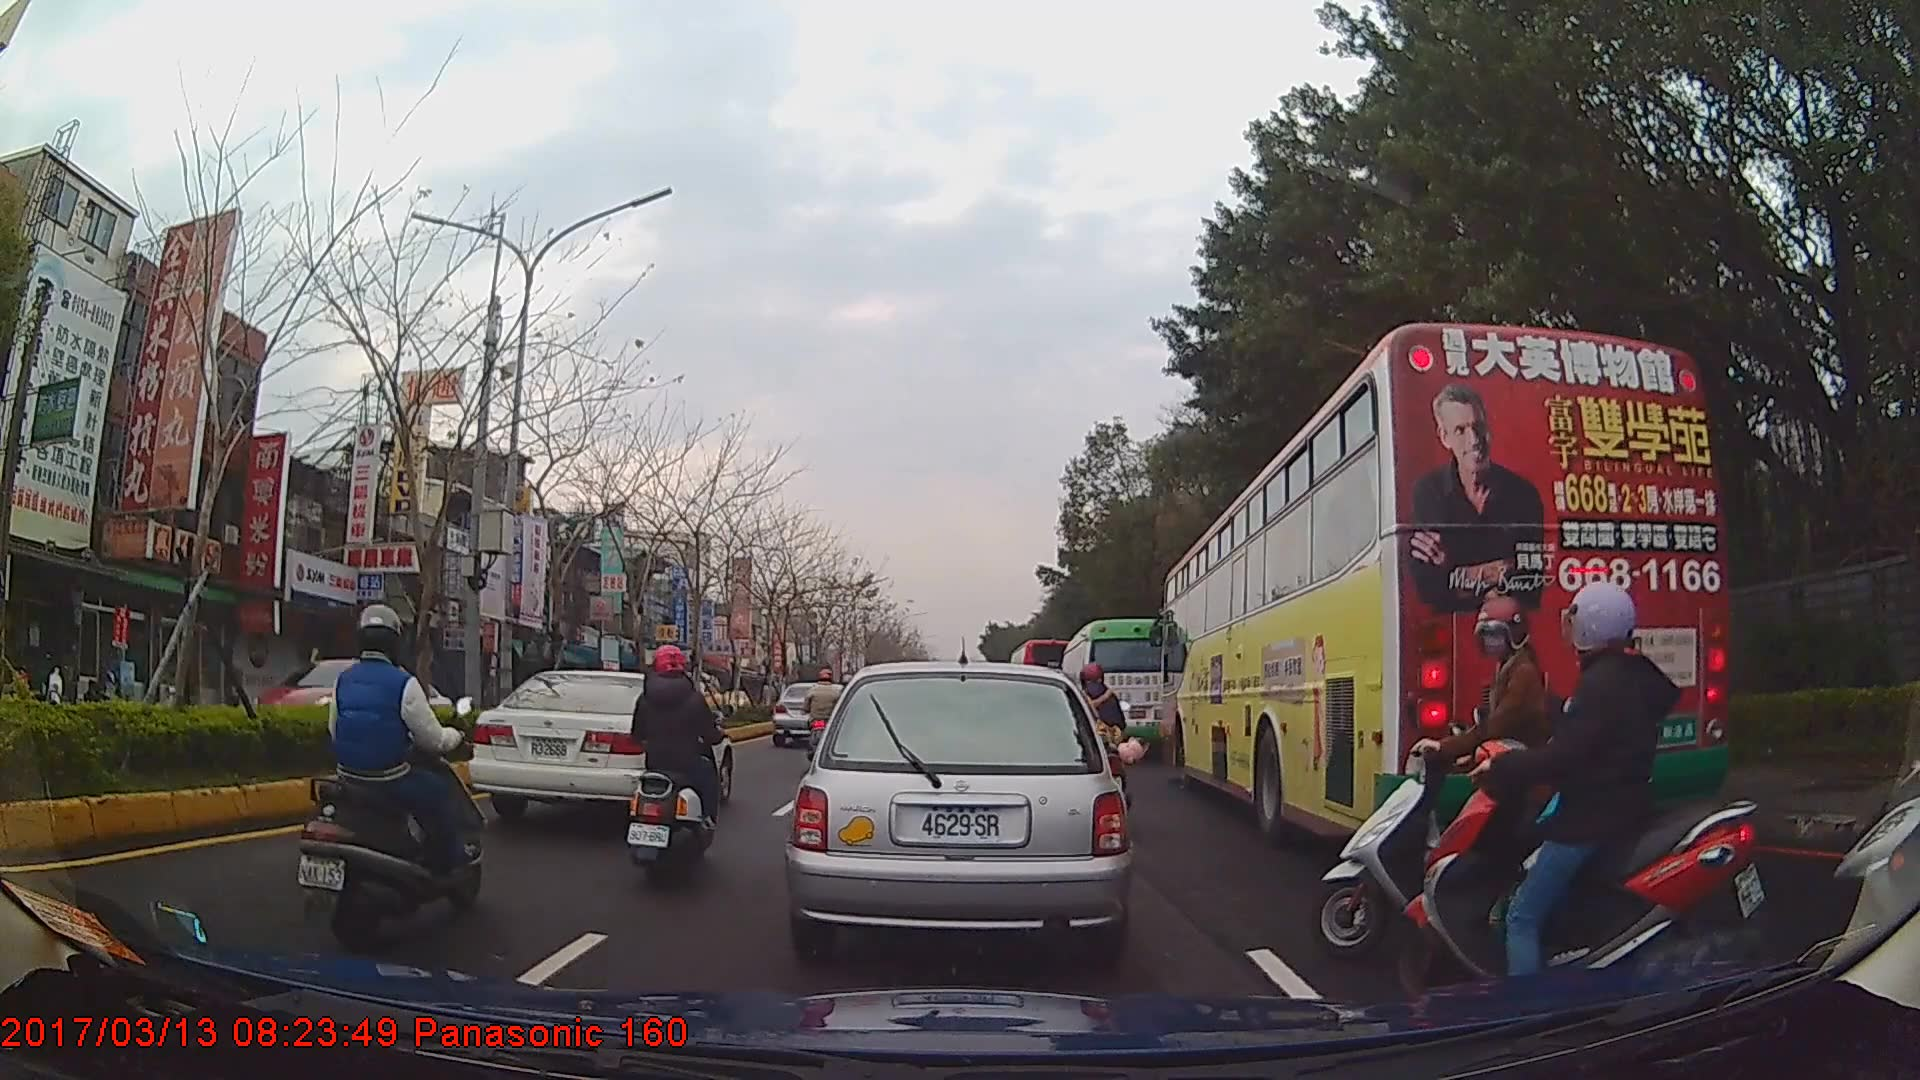rider: (1405, 580, 1787, 1043), (1313, 596, 1658, 975), (300, 594, 486, 957), (1835, 545, 1920, 977), (624, 642, 728, 882), (1062, 664, 1143, 793), (810, 668, 850, 760)
vehicle: (1162, 319, 1731, 851), (783, 661, 1133, 965), (464, 668, 732, 825), (1058, 617, 1186, 760), (249, 657, 409, 750)
